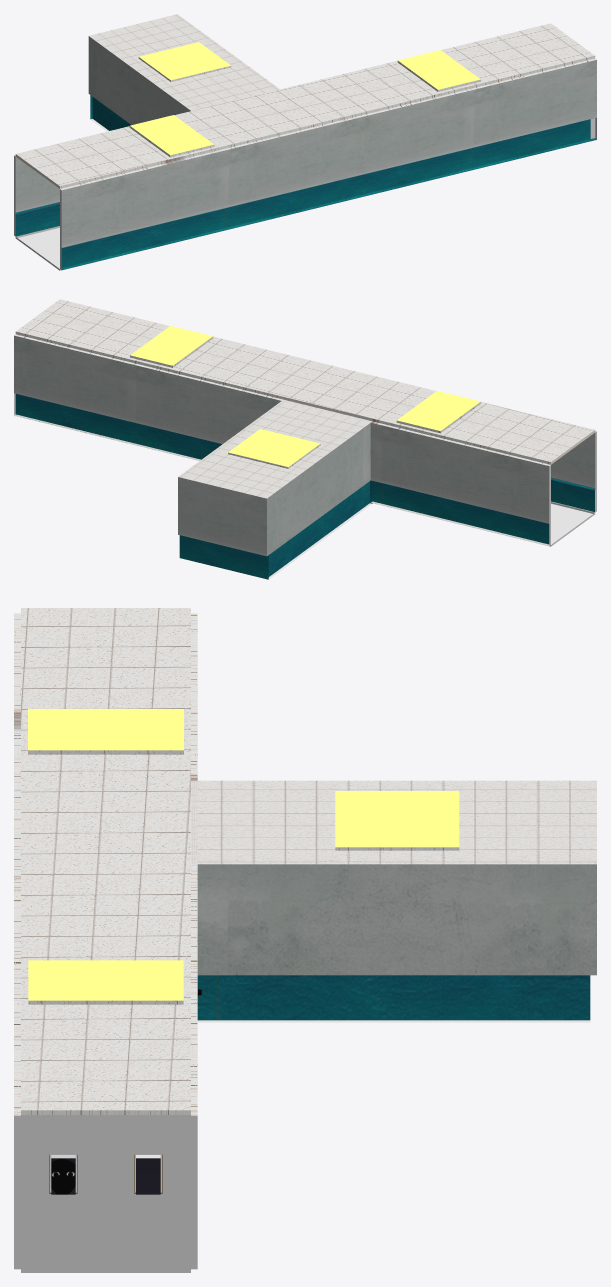
File: Hallway.glb
3 views of the same model, one above another, from view 1: azimuth 30°, elevation 25°; view 2: azimuth 150°, elevation 25°; view 3: azimuth 270°, elevation 25° (orthographic). The views are drawn at different scales.
Visible parts, largest first — view 1: Cube_1; view 2: Cube_1; view 3: Cube_1.
Boxes of the visible parts, x1=… form: Cube_1: x1=14, y1=14, x2=596, y2=270; Cube_1: x1=14, y1=299, x2=596, y2=579; Cube_1: x1=14, y1=608, x2=596, y2=1272.
Bounding box in the file's own units: 36.95 × 5.78 × 18.07.
Materials: 9 (4 with a texture image).
